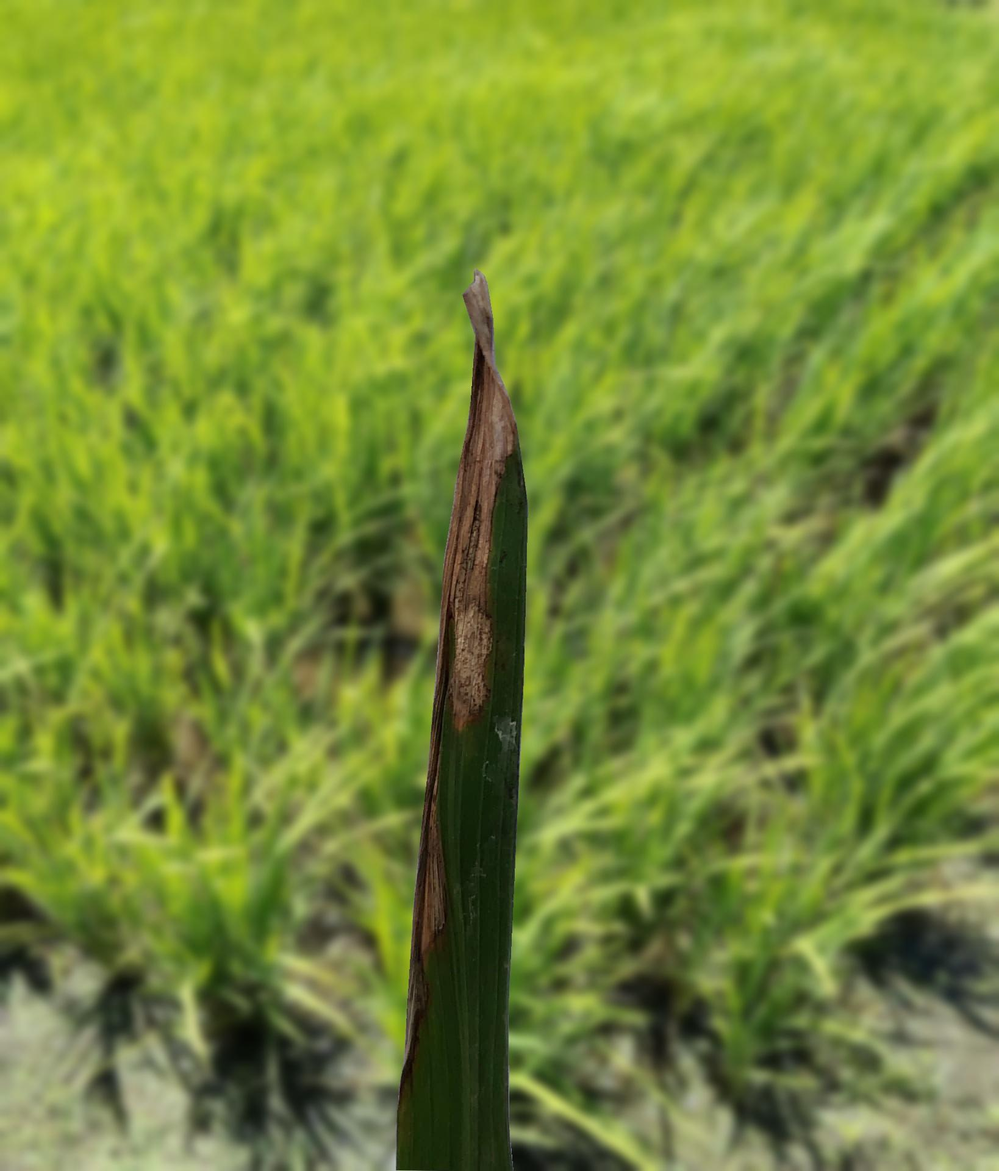BLB: (398, 270, 516, 1109)
LEAF: (396, 268, 528, 1170)
